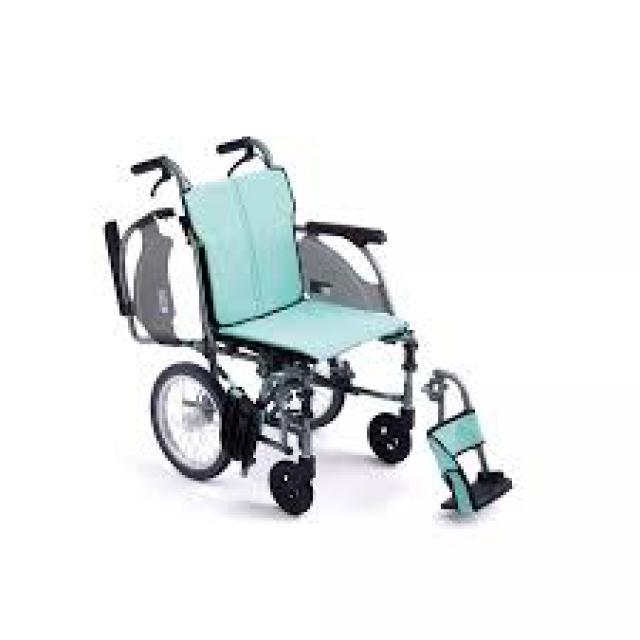wheelchair: (99, 125, 532, 549)
